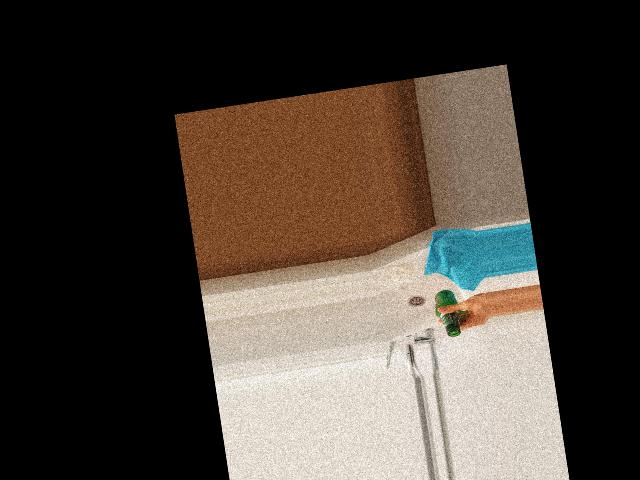beer: (432, 287, 464, 338)
